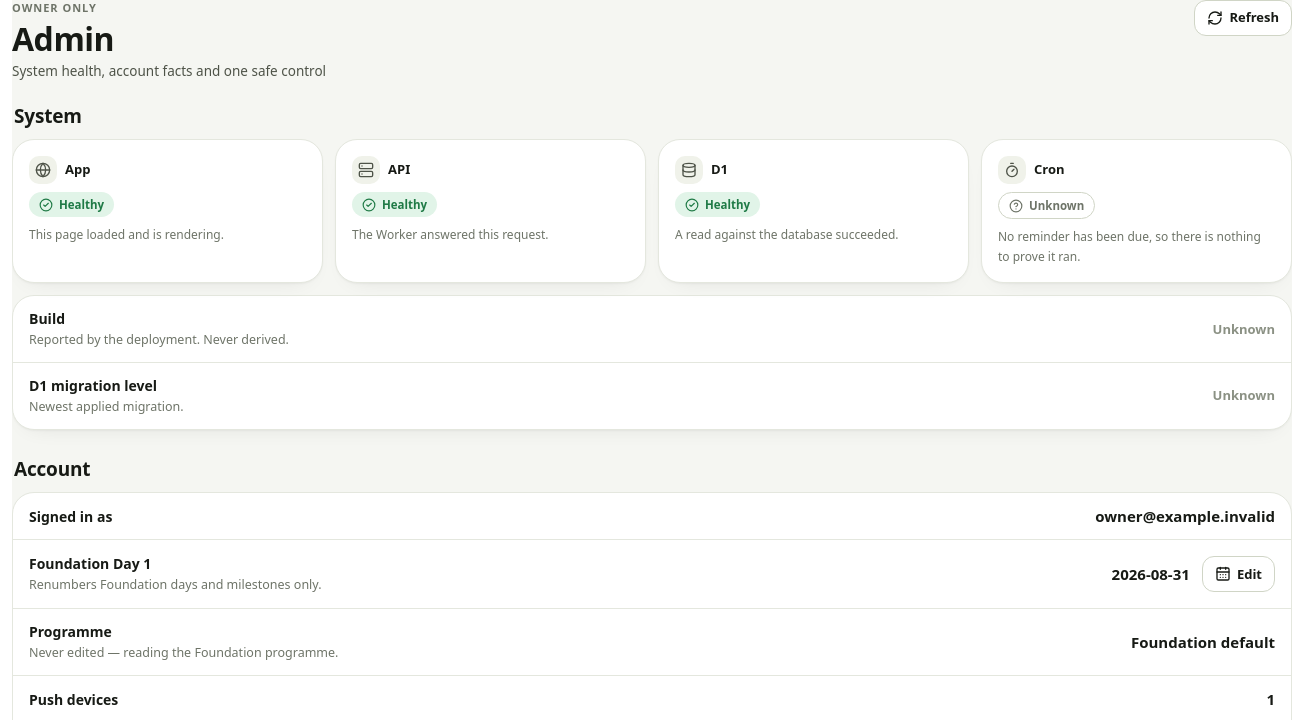
Test: 4. Day 1 cannot be changed by accident › E. a refused write leaves the previously stored date on screen
expect the text "Foundation Day 1" is shown: met, box [29,554,151,574]
Click the button "Edit": click(1238, 574) [1202,556,1275,592]
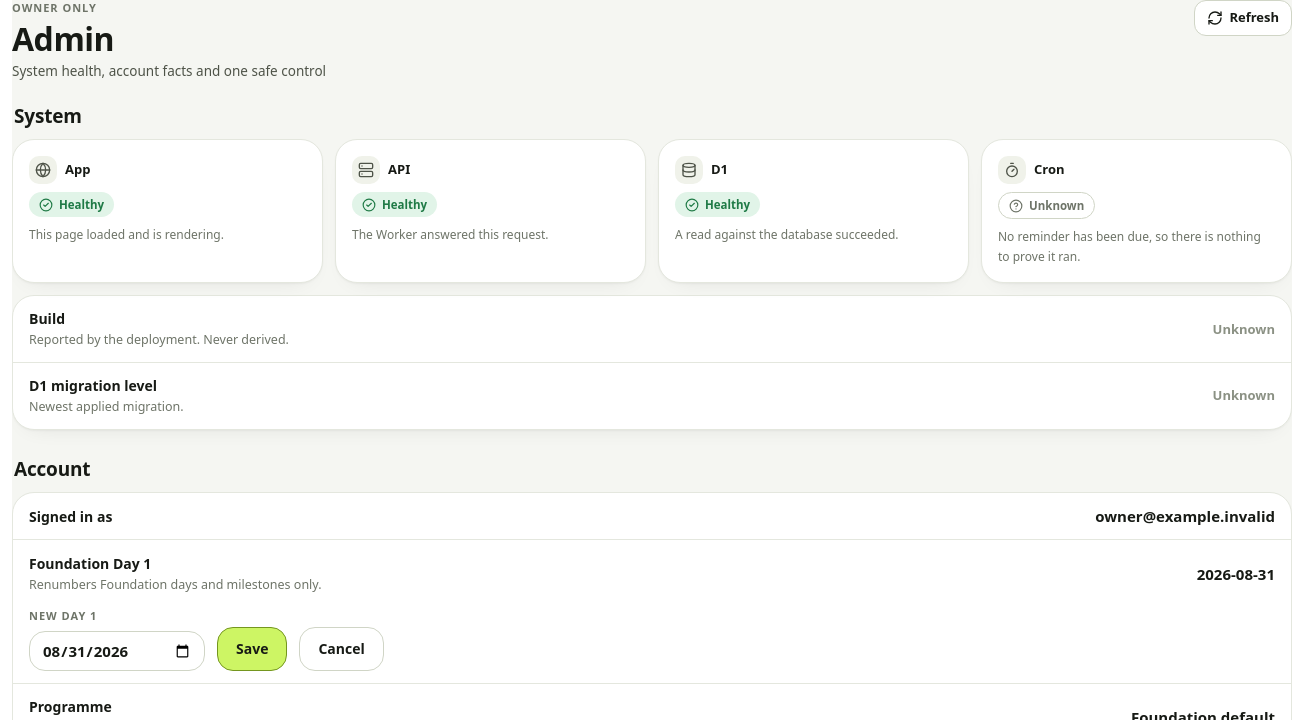
In the date field labelled "New Day 1": (117, 651) [29,631,205,671], type "2026-09-14"
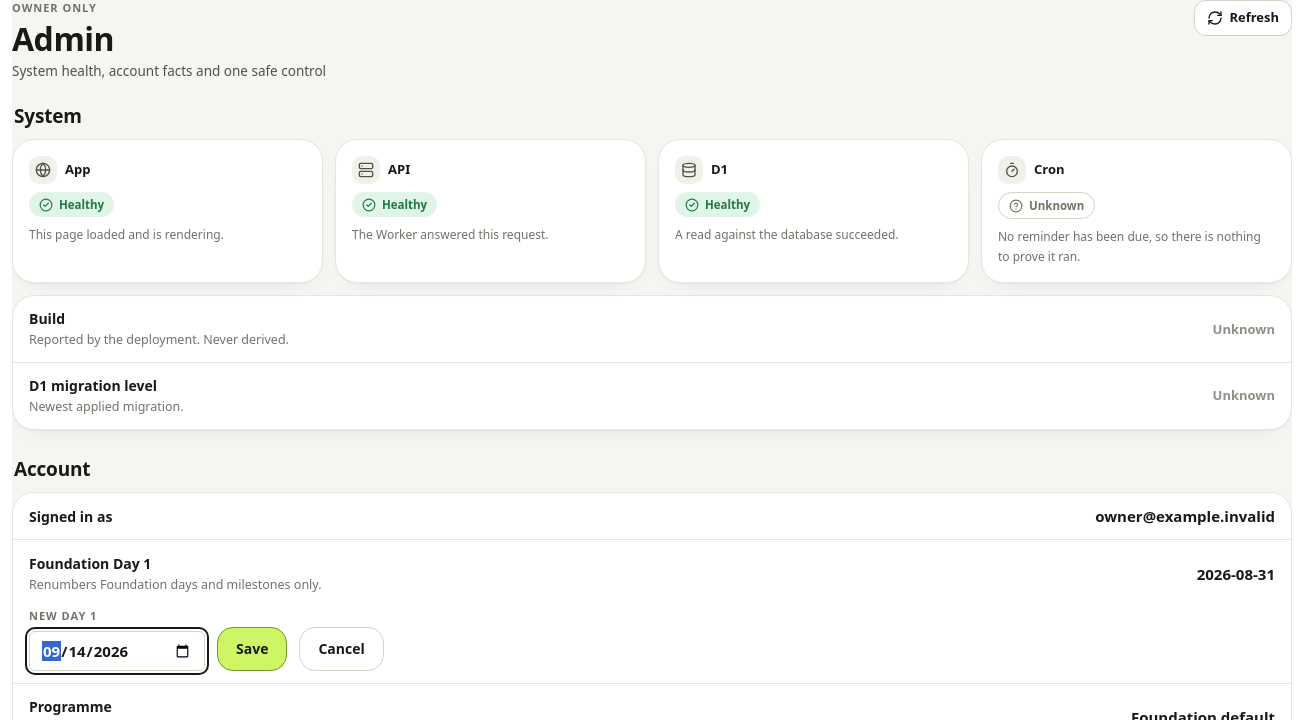
Click the button "Save": click(252, 649) [217,627,287,671]
(page scrolled)
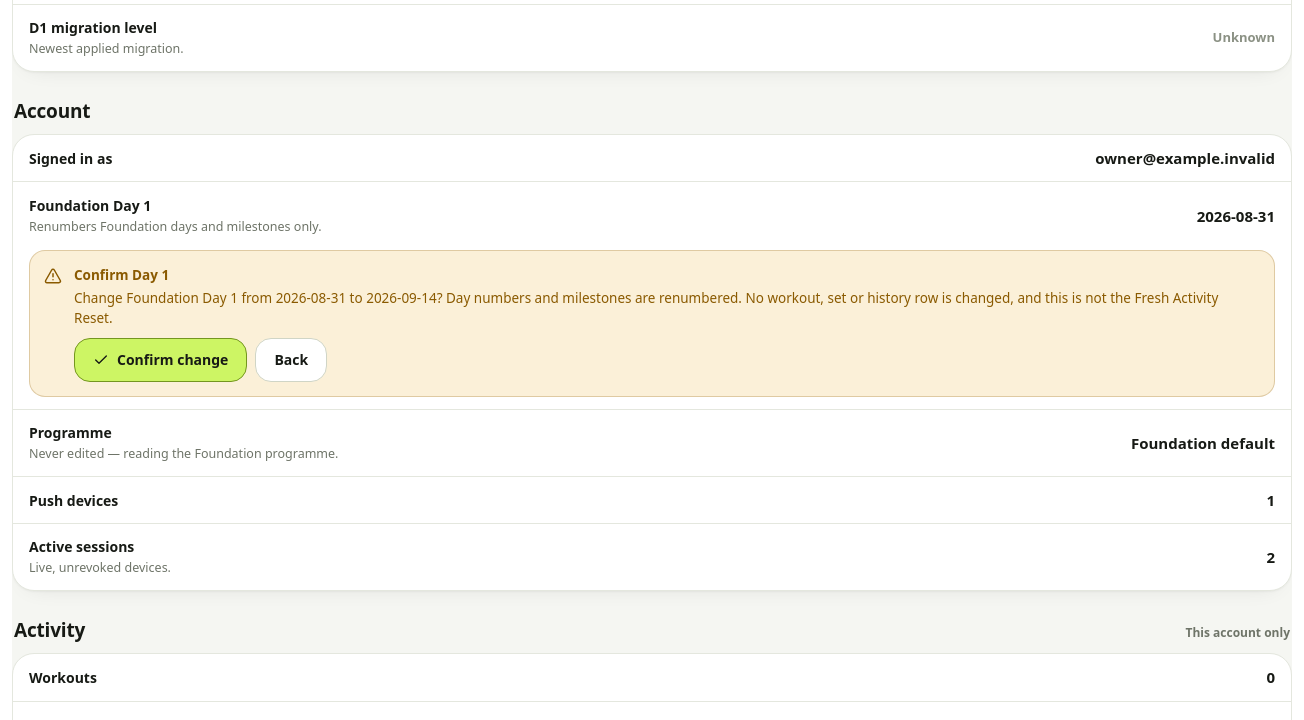
expect the text "Confirm Day 1" is shown: met, box [74,266,169,284]
Click the button "Confirm change": click(161, 360) [74,338,247,382]
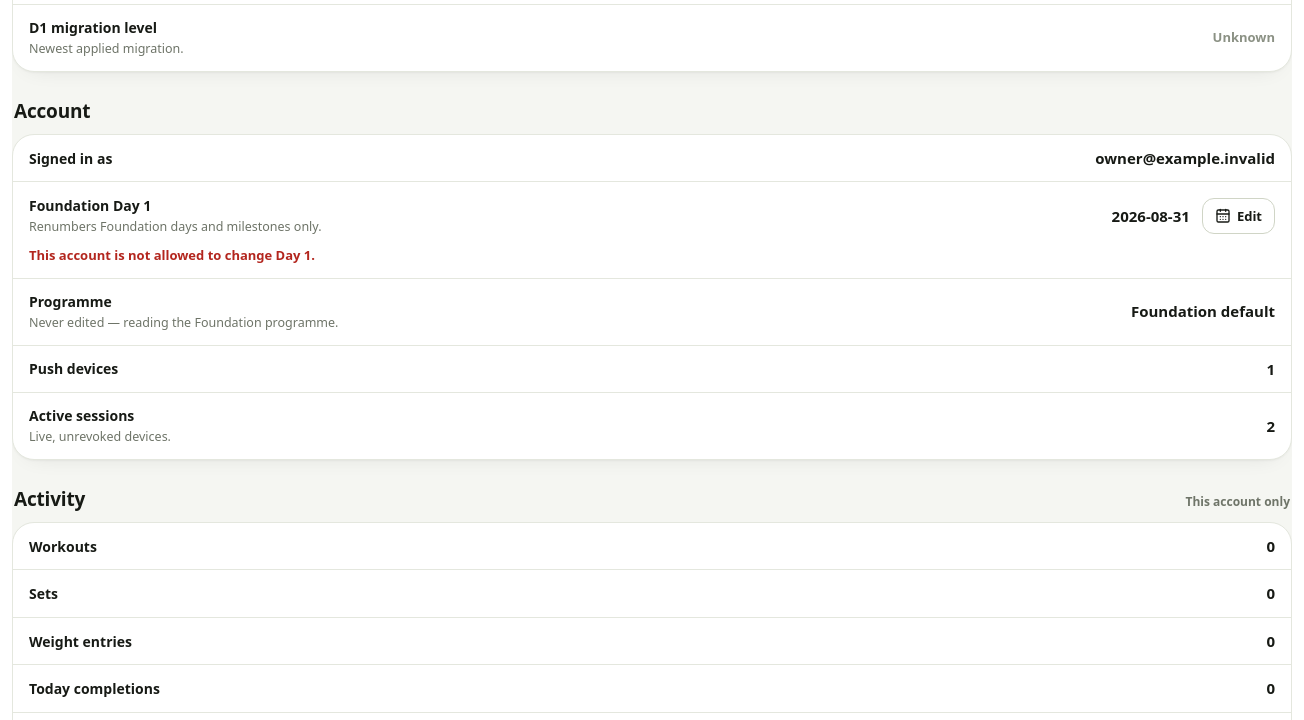
expect the text "2026-08-31" is shown: met, box [1112,205,1190,228]
expect the text "This account is not allowed to change Day 1." is shown: met, box [29,246,315,264]
